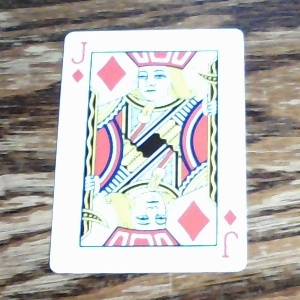card: (49, 27, 250, 273)
